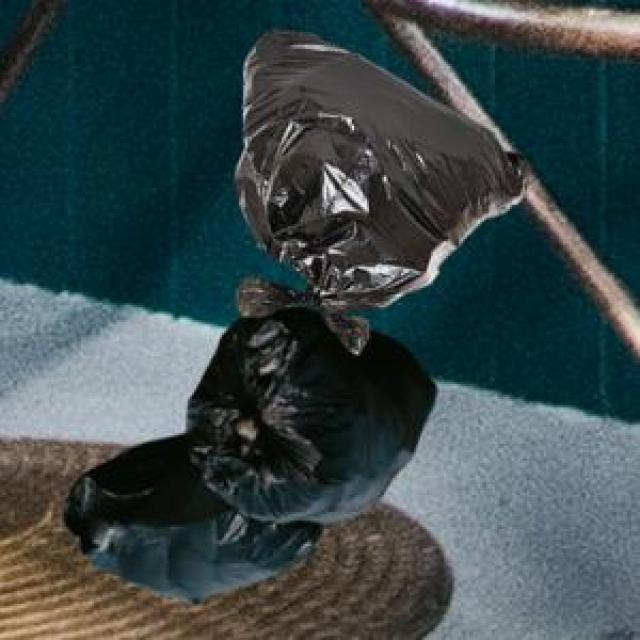Vinyl: (232, 28, 524, 336), (192, 318, 432, 516), (90, 433, 326, 600)
